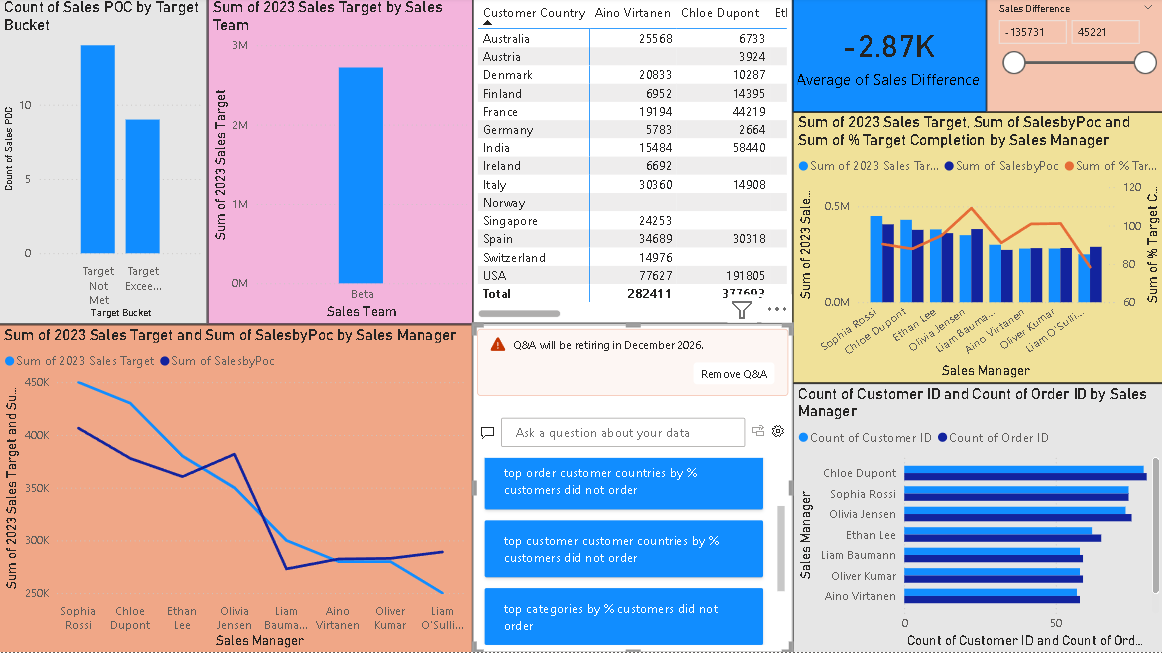

Layout of this report page (visuals, bound fields, positions):
{"tool":"powerbi","page":{"name":"Sales Team","canvas":[1280,720],"ordinal":0},"visuals":[{"type":"clusteredColumnChart","fields":{"Category":["Sales Targets.Target Bucket"],"Y":["CountNonNull(Sales Targets.Sales POC)"]},"box":[0,0,229.2,359.5],"z":1000},{"type":"clusteredColumnChart","fields":{"Category":["Sales Targets.Sales Team"],"Y":["Sum(Sales Targets.2023 Sales Target)"]},"box":[229.2,0,290.9,359.5],"z":2000},{"type":"pivotTable","fields":{"Rows":["Orders.Customer Country"],"Values":["Sum(Orders.Order Value)"],"Columns":["Sales Manager Target Completion.Sales Manager"]},"box":[520.1,0,351.3,358.1],"z":3000},{"type":"card","fields":{"Values":["Avg(Sales Targets.Sales Difference)"]},"box":[871.4,0,212.7,126.2],"z":4000},{"type":"slicer","fields":{"Values":["Sales Targets.Sales Difference"]},"box":[1084.1,0,196.2,126.2],"z":5000},{"type":"lineClusteredColumnComboChart","fields":{"Category":["Sales Targets.Sales Manager"],"Y":["Sum(Sales Targets.2023 Sales Target)","Sum(Sales Targets.SalesbyPoc)"],"Y2":["Sum(Sales Manager Target Completion.% Target Completion)"]},"box":[871.4,126.2,408.9,297.8],"z":6000},{"type":"clusteredBarChart","fields":{"Y":["Count(Orders.Customer ID)","Count(Orders.Order ID)"],"Category":["Sales Manager Target Completion.Sales Manager"]},"box":[871.4,424,408.9,296.4],"z":7000},{"type":"lineChart","fields":{"Category":["Sales Targets.Sales Manager"],"Y":["Sum(Sales Targets.2023 Sales Target)","Sum(Sales Targets.SalesbyPoc)"]},"box":[0,359.5,520.1,360.9],"z":8000},{"type":"qnaVisual","box":[520.1,359.5,351.3,360.9],"z":8001}]}

Visuals, with their boxes in screenshot pixels (x1, y1, x2, y2), scaled from the page's 1280x720 canvas onto the 1162x653 screenshot:
clusteredColumnChart - Sales Targets.Target Bucket x CountNonNull(Sales Targets.Sales POC): box=[0, 0, 208, 326]
clusteredColumnChart - Sales Targets.Sales Team x Sum(Sales Targets.2023 Sales Target): box=[208, 0, 472, 326]
pivotTable - Orders.Customer Country x Sum(Orders.Order Value): box=[472, 0, 791, 325]
card - Avg(Sales Targets.Sales Difference): box=[791, 0, 984, 114]
slicer - Sales Targets.Sales Difference: box=[984, 0, 1161, 114]
lineClusteredColumnComboChart - Sales Targets.Sales Manager x Sum(Sales Targets.2023 Sales Target): box=[791, 114, 1161, 385]
clusteredBarChart - Count(Orders.Customer ID) x Count(Orders.Order ID): box=[791, 385, 1161, 652]
lineChart - Sales Targets.Sales Manager x Sum(Sales Targets.2023 Sales Target): box=[0, 326, 472, 652]
qnaVisual: box=[472, 326, 791, 652]
